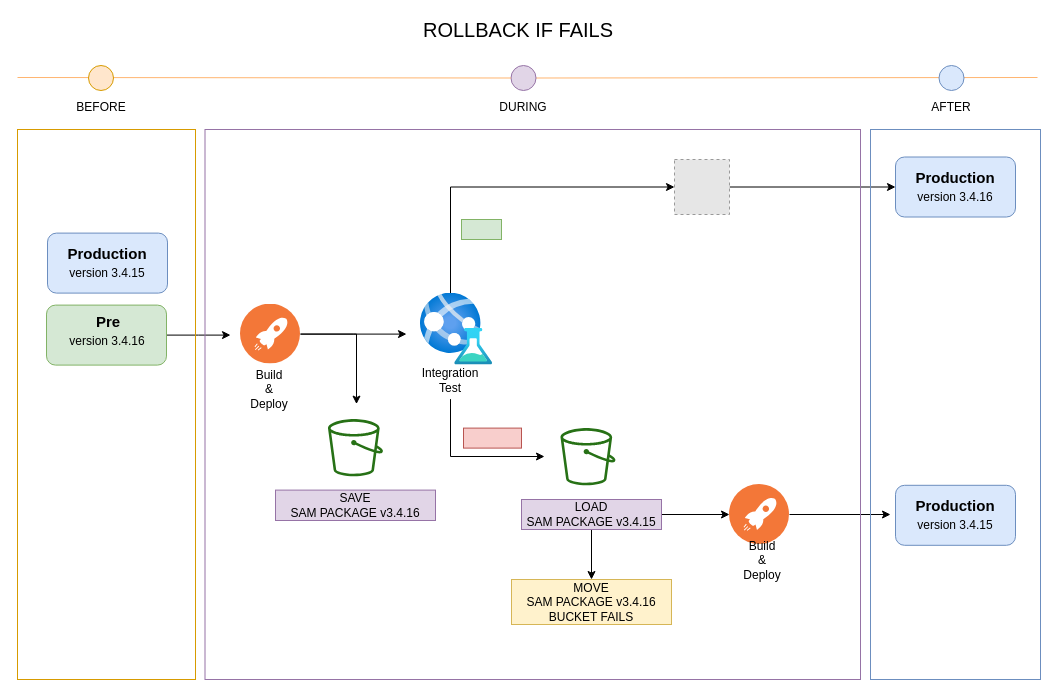
Some shapes in this 1058 by 697 pixel diagram are drawn without their labels. Grey dashed boxes stand in for pictures. Each missing label, with the box of its shape:
ERROR: (462, 427, 522, 448)
OK: (460, 218, 502, 240)
